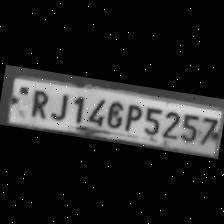1: (66, 92, 88, 125)
2: (158, 107, 180, 141)
4: (83, 92, 108, 126), (197, 114, 221, 149)
5: (175, 110, 202, 144), (139, 102, 164, 138)
6: (103, 99, 124, 130)
J: (48, 88, 72, 123)
P: (120, 100, 143, 132)
R: (23, 86, 52, 120)
